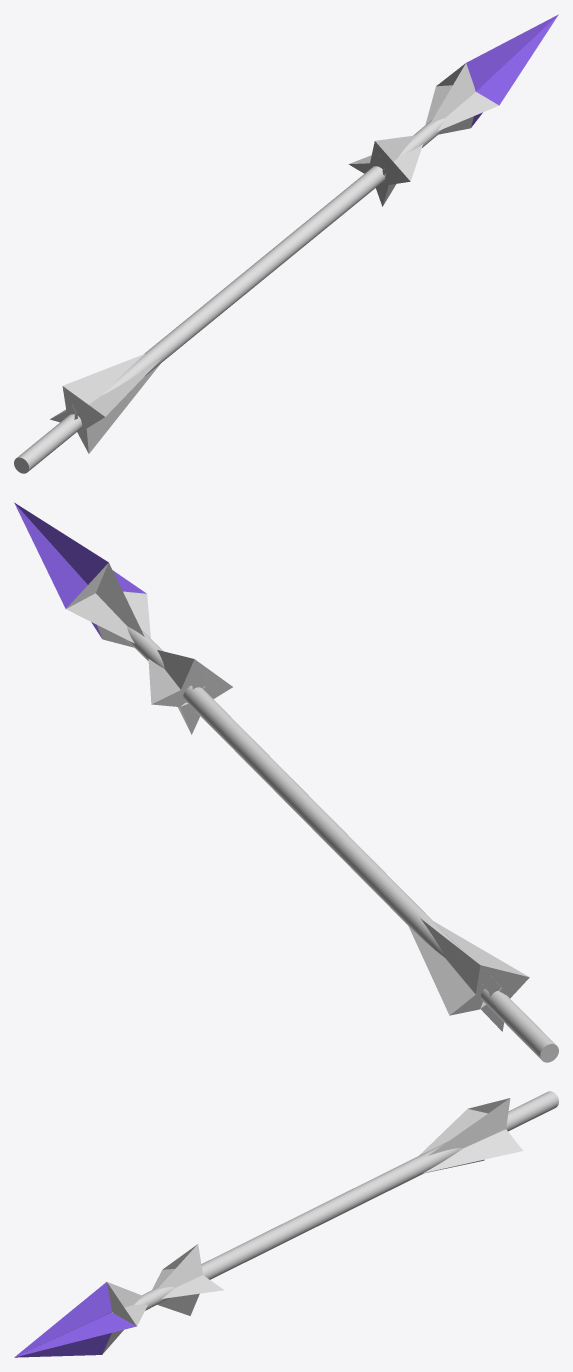
Rendered from ArrowPackage.fbx.
3 views of the same model, one above another, from view 1: azimuth 90°, elevation 25°; view 2: azimuth 150°, elevation 25°; view 3: azimuth 270°, elevation 25° (orthographic). The views are drawn at different scales.
Parts seen in each view (by area): view 1: Цилиндр, Конус.002, Конус, Конус.003, Конус.001, Цилиндр.002; view 2: Цилиндр, Конус.002, Конус, Конус.003, Конус.001, Цилиндр.002; view 3: Цилиндр, Конус, Конус.002, Конус.001, Конус.003, Цилиндр.002.
Part boxes in pixels (x1,y1,x2,y2): Цилиндр: (14, 166, 385, 473); Конус.002: (50, 354, 161, 453); Конус: (466, 14, 558, 127); Конус.003: (425, 63, 498, 134); Конус.001: (348, 135, 422, 206); Цилиндр.002: (398, 118, 445, 157); Цилиндр: (183, 685, 558, 1062); Конус.002: (408, 918, 529, 1031); Конус: (14, 502, 146, 638); Конус.003: (66, 562, 150, 647); Конус.001: (148, 650, 232, 734); Цилиндр.002: (126, 626, 164, 668); Цилиндр: (201, 1091, 558, 1279); Конус: (14, 1282, 136, 1357); Конус.002: (419, 1098, 522, 1172); Конус.001: (152, 1244, 224, 1315); Конус.003: (102, 1282, 147, 1354); Цилиндр.002: (134, 1286, 174, 1310).
Bounding box in the file's own units: 307 × 54.26 × 198.
